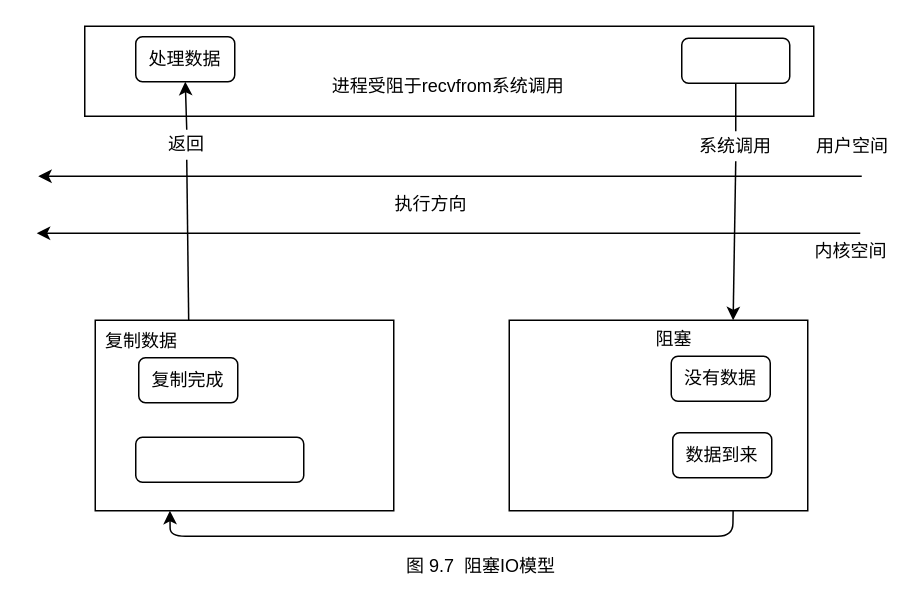
This 924x608 diagram has some shape labels left out. Here are the shapes that lost their labels. From the top down, the box of each, then its label:
(680, 37, 790, 83): recvfrom
(134, 436, 304, 482): 复制数据到用户空间
